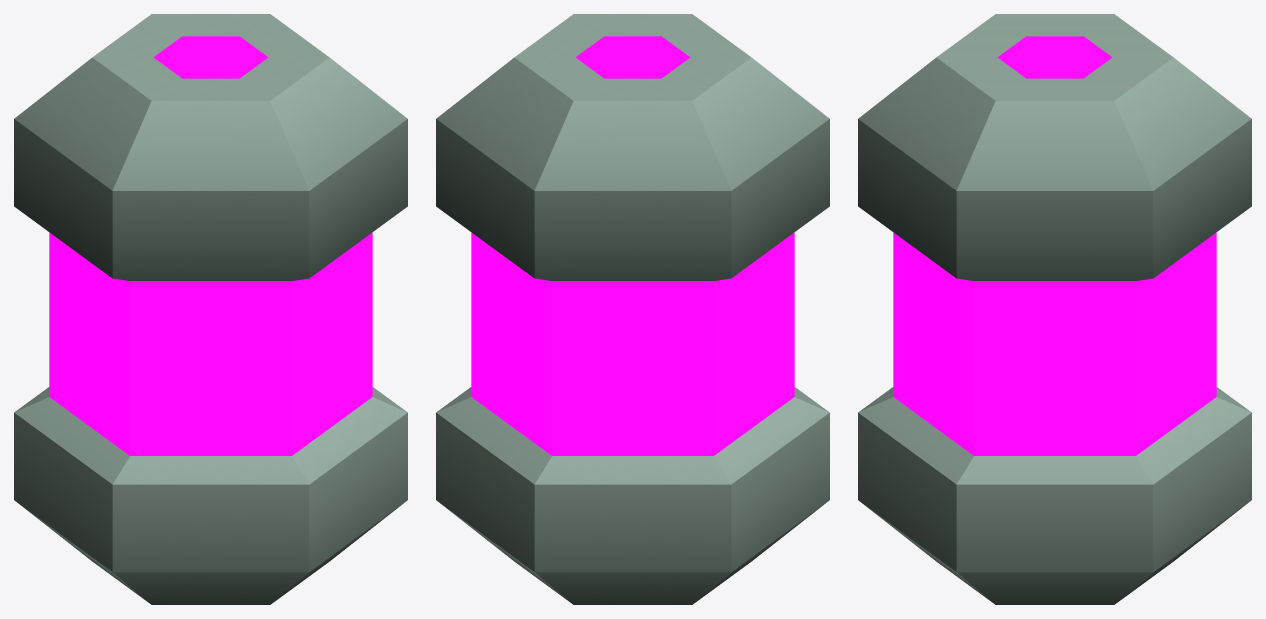
Rendered from item_004.fbx.
The picture shows the model from 3 angles, left to right: view 1: azimuth 30°, elevation 25°; view 2: azimuth 150°, elevation 25°; view 3: azimuth 270°, elevation 25°; orthographic projection.
Visible parts, largest first — view 1: item.004; view 2: item.004; view 3: item.004.
Boxes of the visible parts, x1=… form: item.004: x1=14, y1=14, x2=407, y2=604; item.004: x1=436, y1=14, x2=829, y2=604; item.004: x1=858, y1=14, x2=1251, y2=604.
Size of the model in its own units: 129 by 211 by 149.
